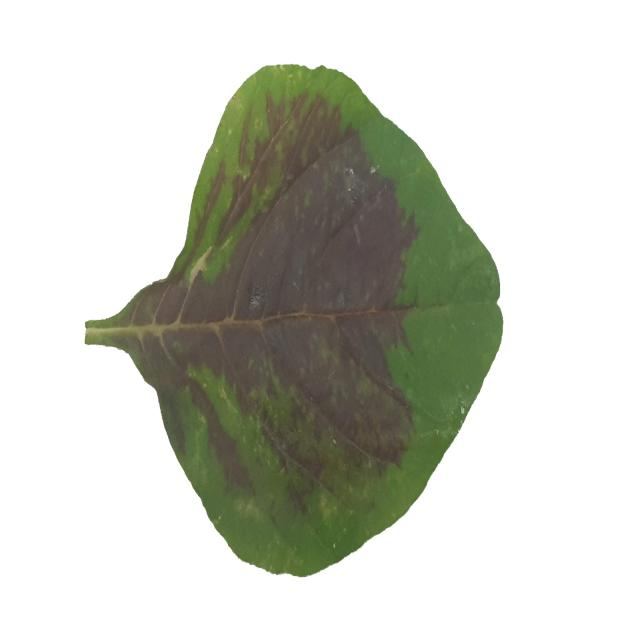Medicinal-Arive Dantu: (85, 59, 502, 577)
